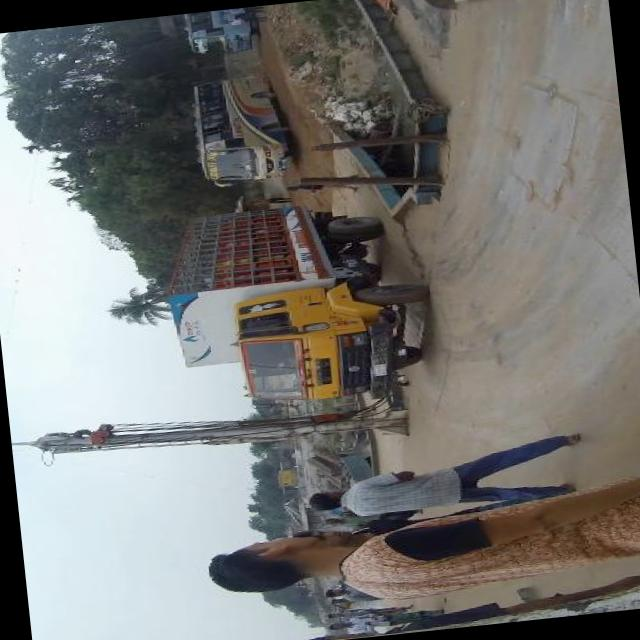bus: (188, 70, 294, 186), (178, 5, 256, 54)
truck: (158, 192, 434, 410)
